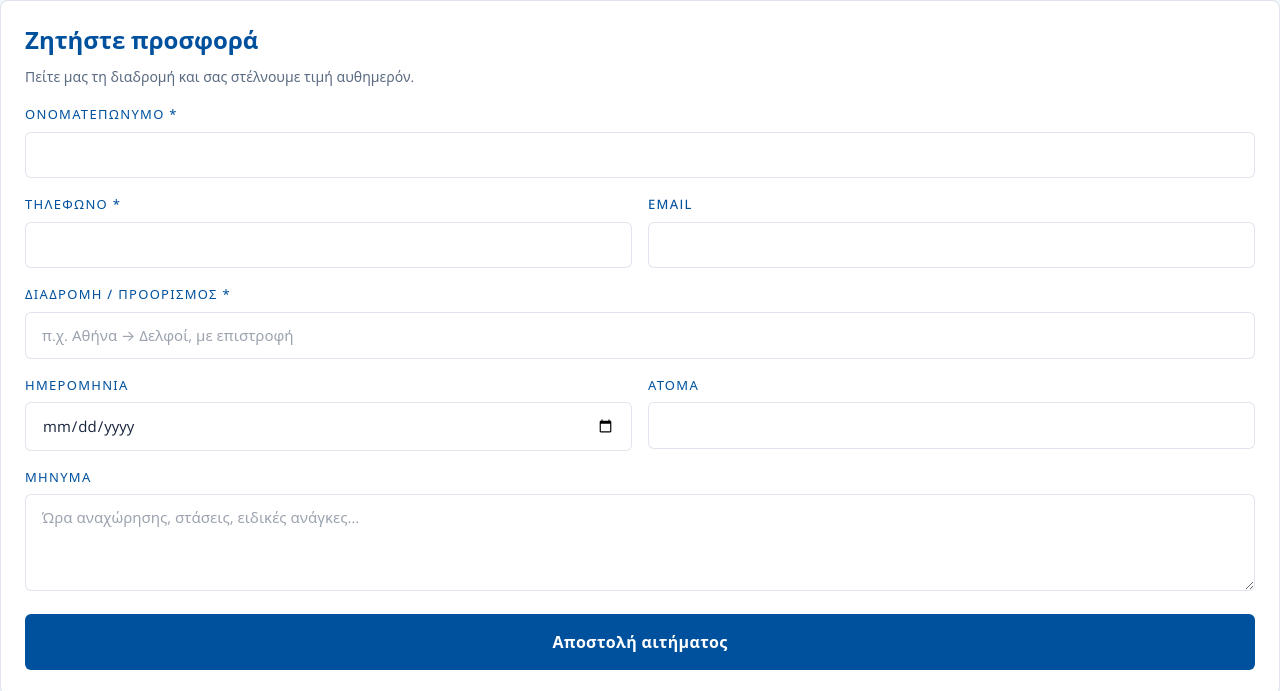
Test case: PoylmanQuoteForm › κενή υποβολή δείχνει σφάλμα σε όνομα, τηλέφωνο και διαδρομή
Click the button "Αποστολή αιτήματος". click: click(640, 642)
box: [25, 614, 1255, 670]
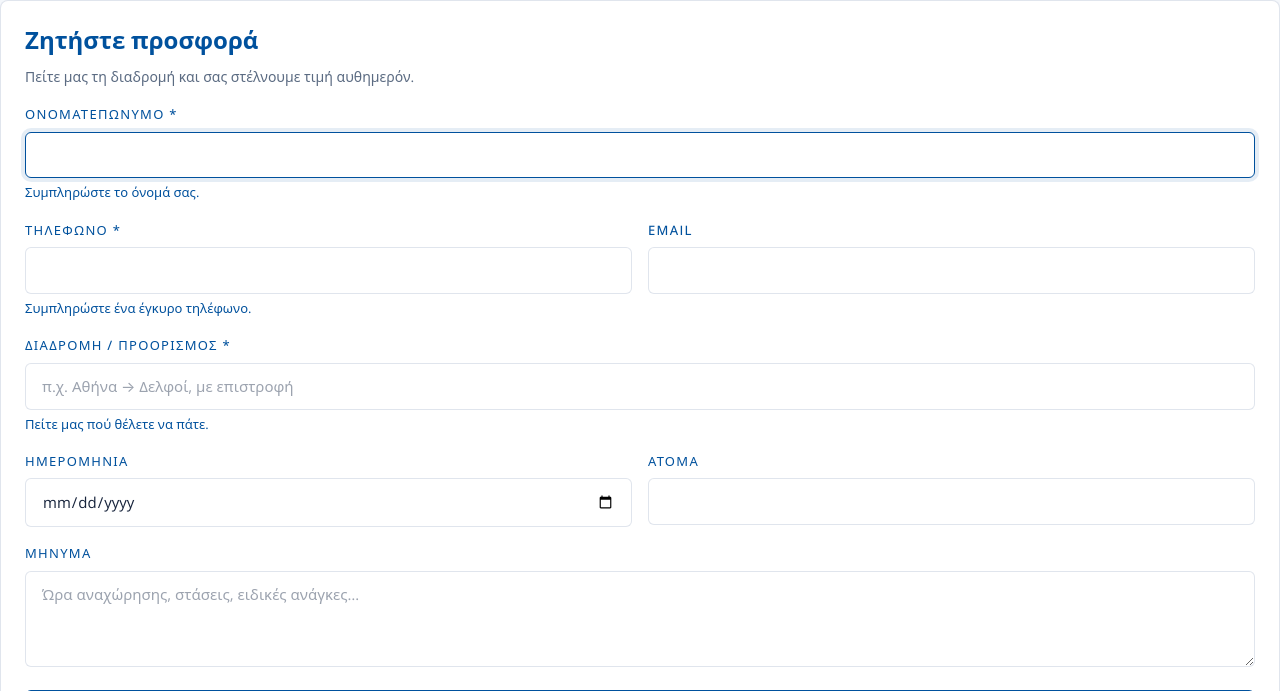
Check: the text "Συμπληρώστε το όνομά σας." is shown, box [25, 183, 199, 201]
Check: the text "Συμπληρώστε ένα έγκυρο τηλέφωνο." is shown, box [25, 299, 251, 317]
Check: the text "Πείτε μας πού θέλετε να πάτε." is shown, box [25, 414, 209, 432]
